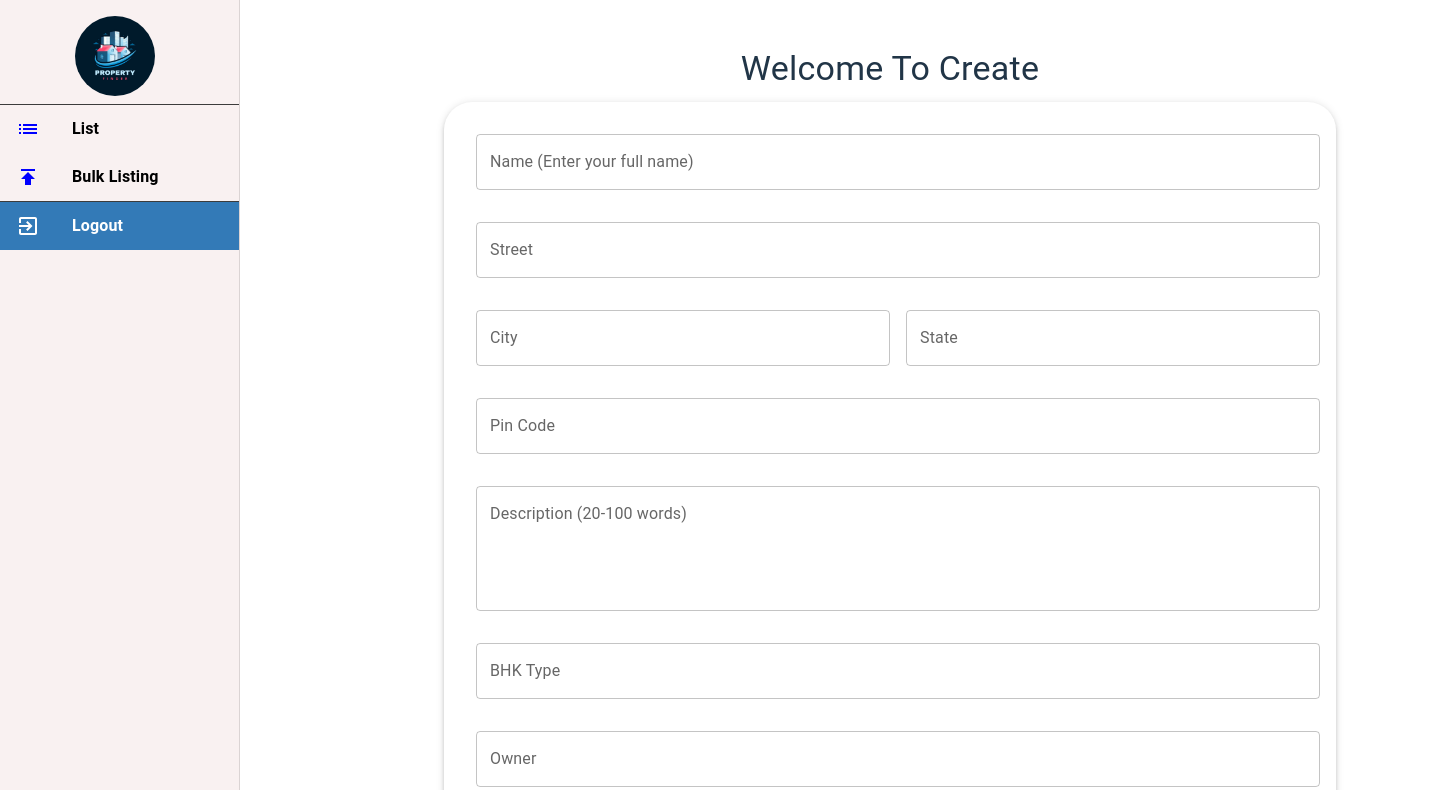
Test case: Create Component › Validates and Submit the form
Type "Joh" into the field labelled "Name (Enter your full name)".
click(898, 162); type("Joh")  # box [476,134,1320,190]
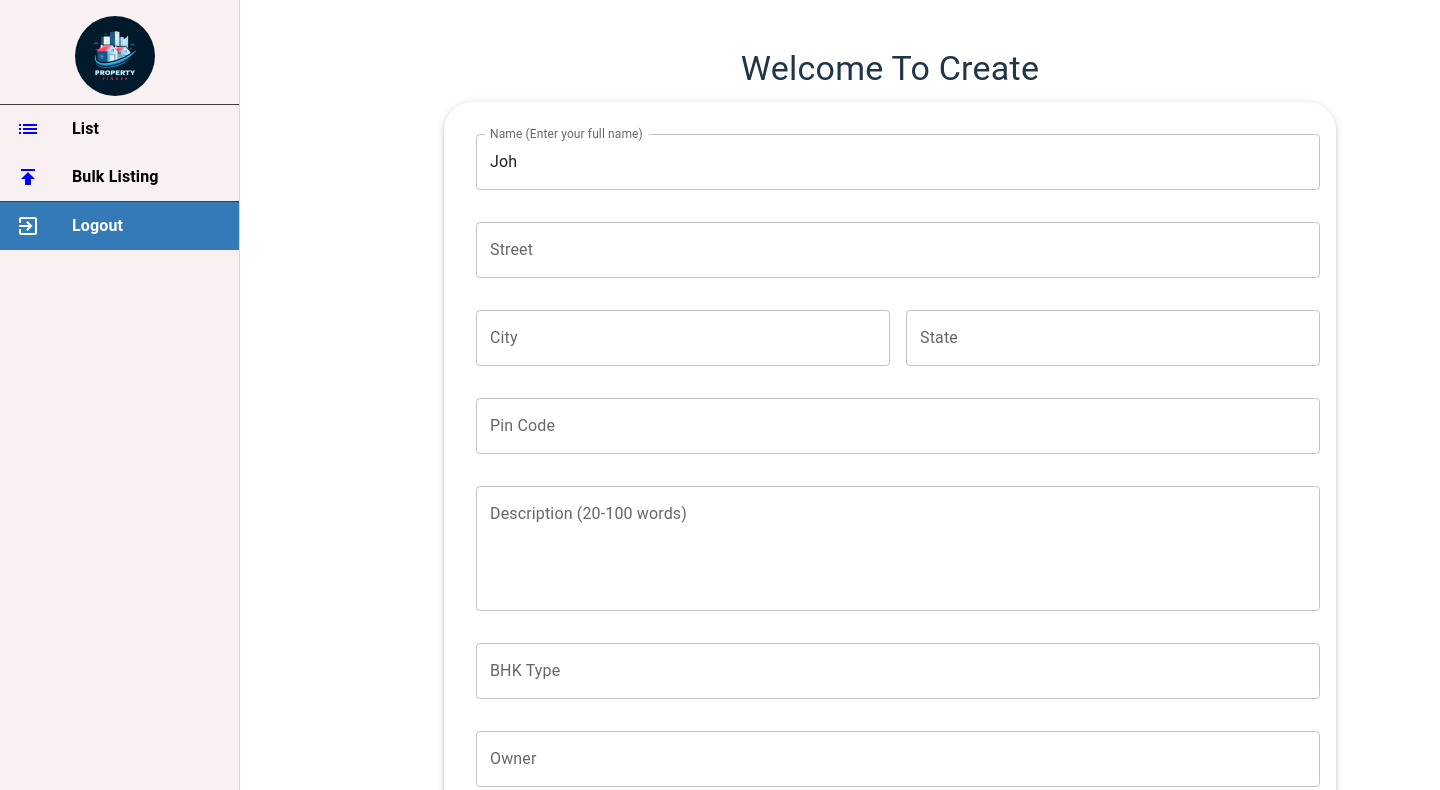
Type "hello" into the text box labelled "Description (20-100 words)".
click(898, 548); type("hello")  # box [490,502,1306,594]
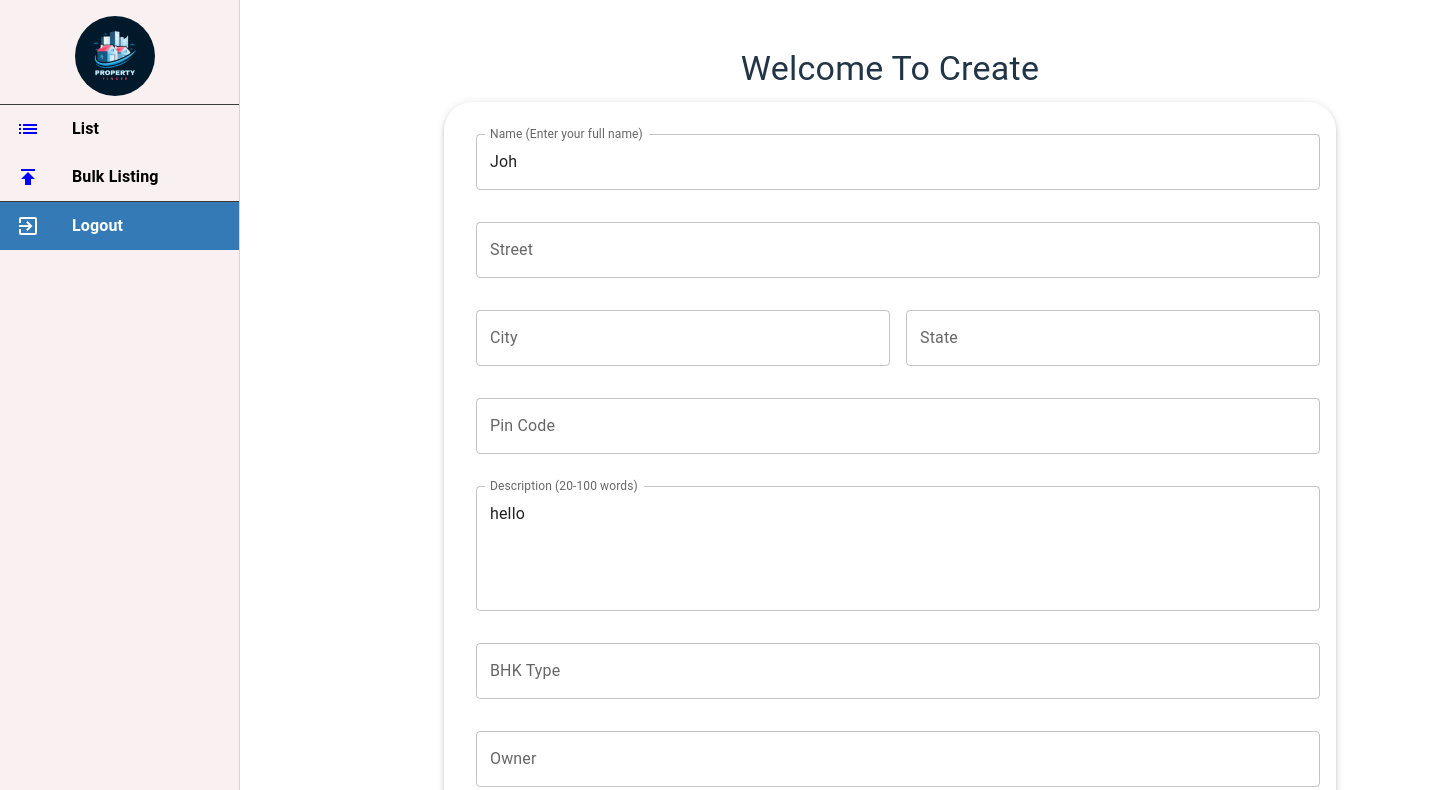
Type "bh" into the field labelled "BHK Type".
click(898, 671); type("bh")  # box [476,643,1320,699]
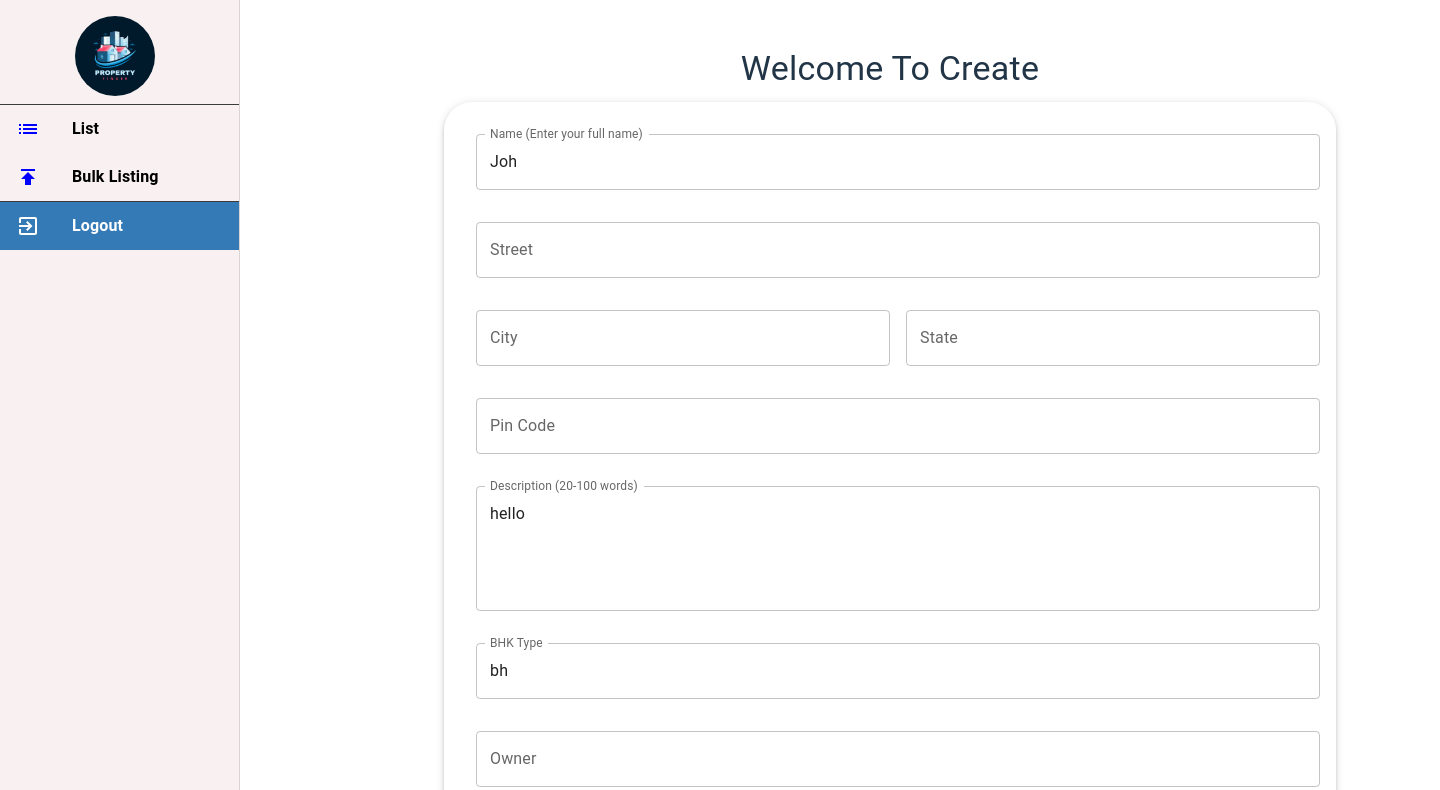
Type "sa" into the field labelled "Owner".
click(898, 759); type("sa")  # box [476,731,1320,787]
(page scrolled)
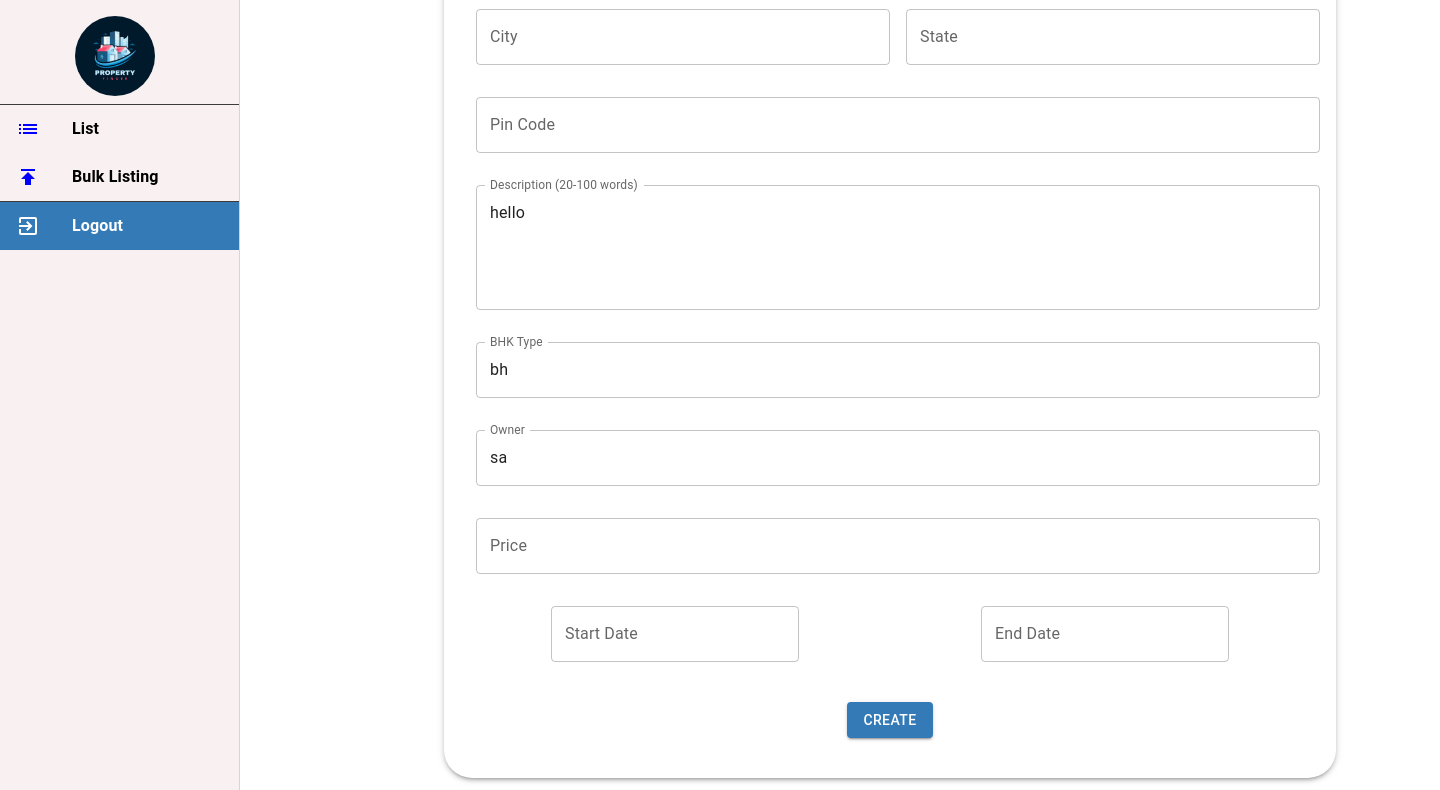
Click the button "Create".
click(890, 720)  # box [847,702,932,738]
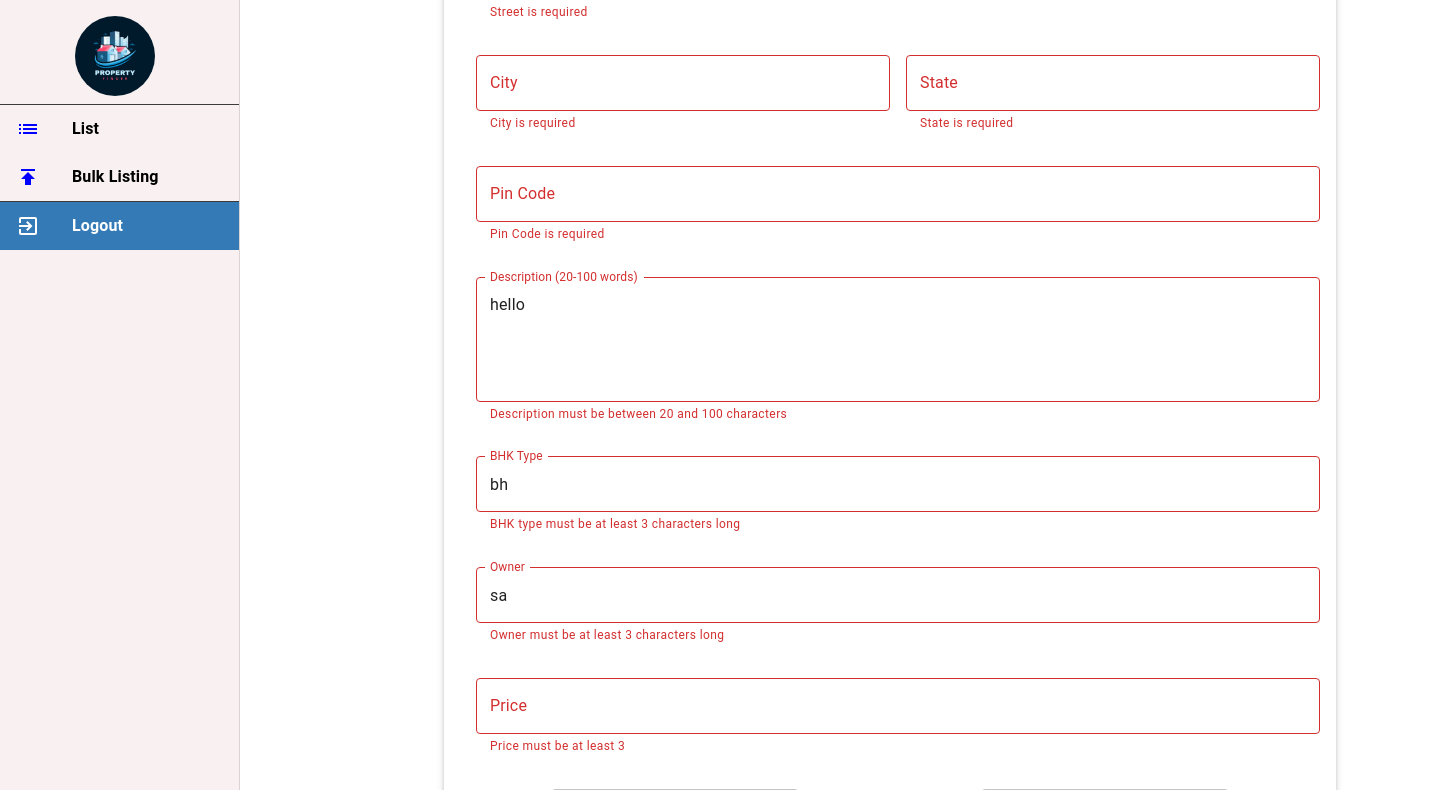
expect the text "Street is required" is shown: met, box [490,5,588,19]
expect the text "City is required" is shown: met, box [490,116,576,130]
expect the text "State is required" is shown: met, box [920,116,1014,130]
